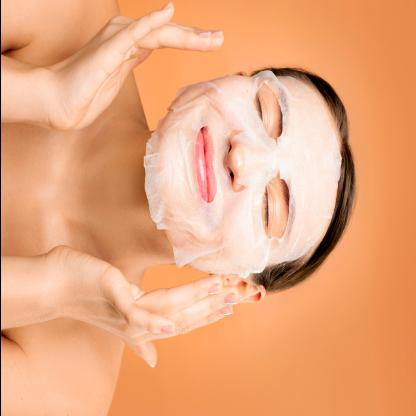Eye: (261, 184, 274, 234), (254, 93, 270, 133)
Mouth: (194, 127, 216, 203)
Nose: (225, 136, 244, 191)
